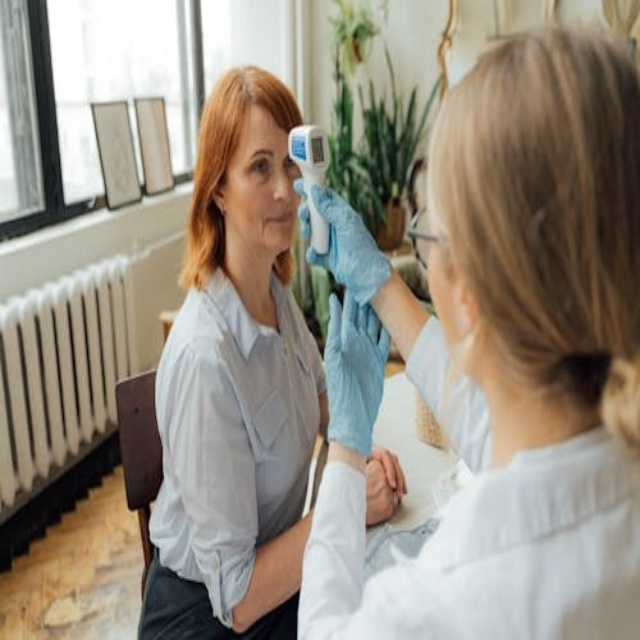Gafas: (406, 209, 445, 270)
Guantes: (297, 178, 390, 307), (321, 288, 389, 457)
Sin_gafas: (227, 146, 293, 179)
Sin_guantes: (362, 448, 406, 528)
Sin_mascara: (234, 204, 296, 244)
